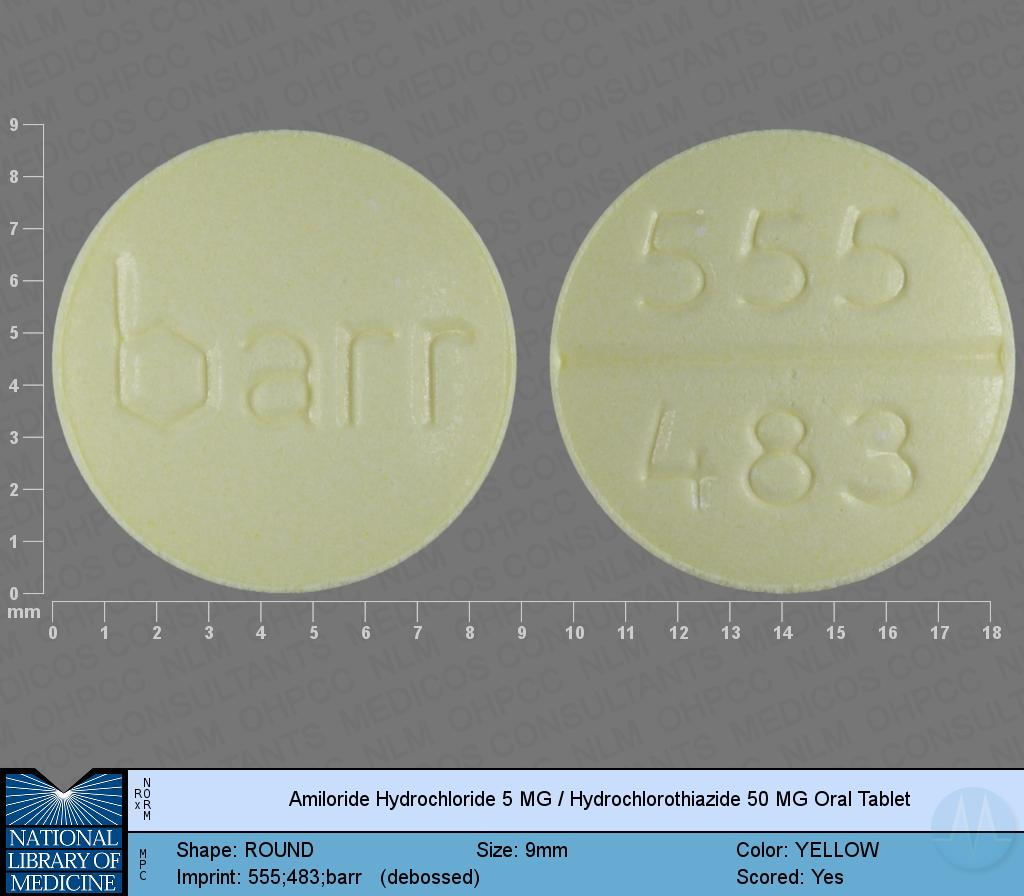Pill: (540, 112, 1024, 602), (47, 115, 527, 600)
